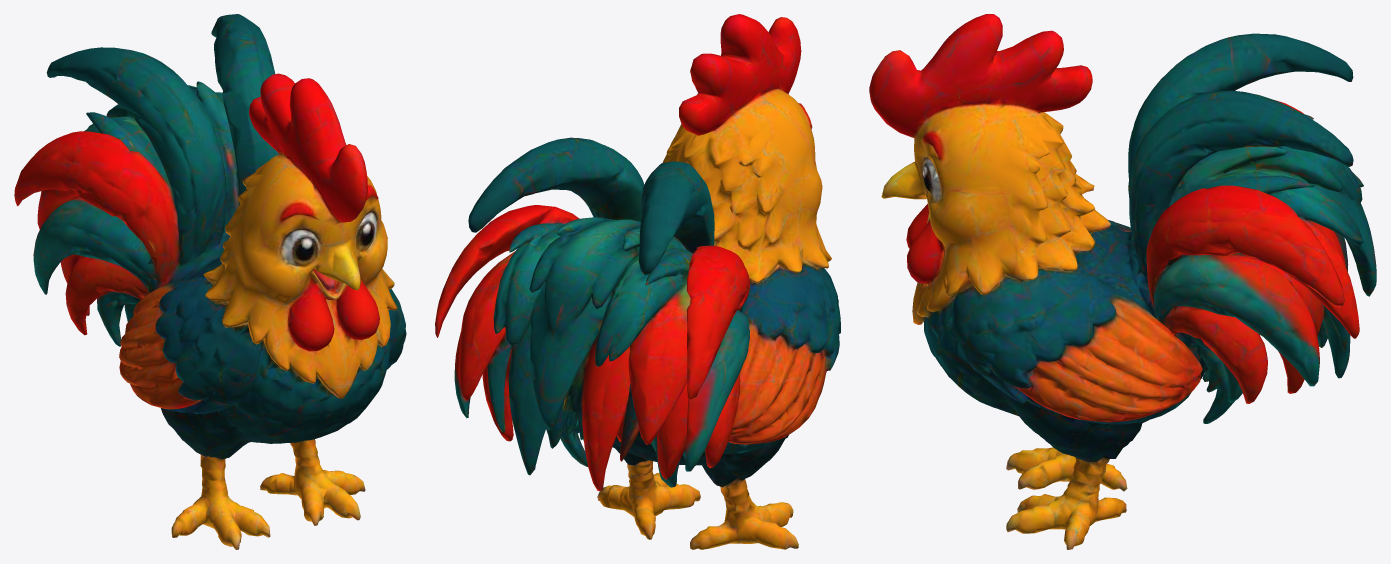
The picture shows the model from 3 angles, left to right: view 1: azimuth 30°, elevation 25°; view 2: azimuth 150°, elevation 25°; view 3: azimuth 270°, elevation 25°; orthographic projection. The views are drawn at different scales.
Size of the model in its own units: 1.11 by 1.9 by 1.8.
1 material, 1 textured.
